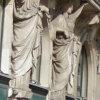Statue: (48, 0, 87, 99)
